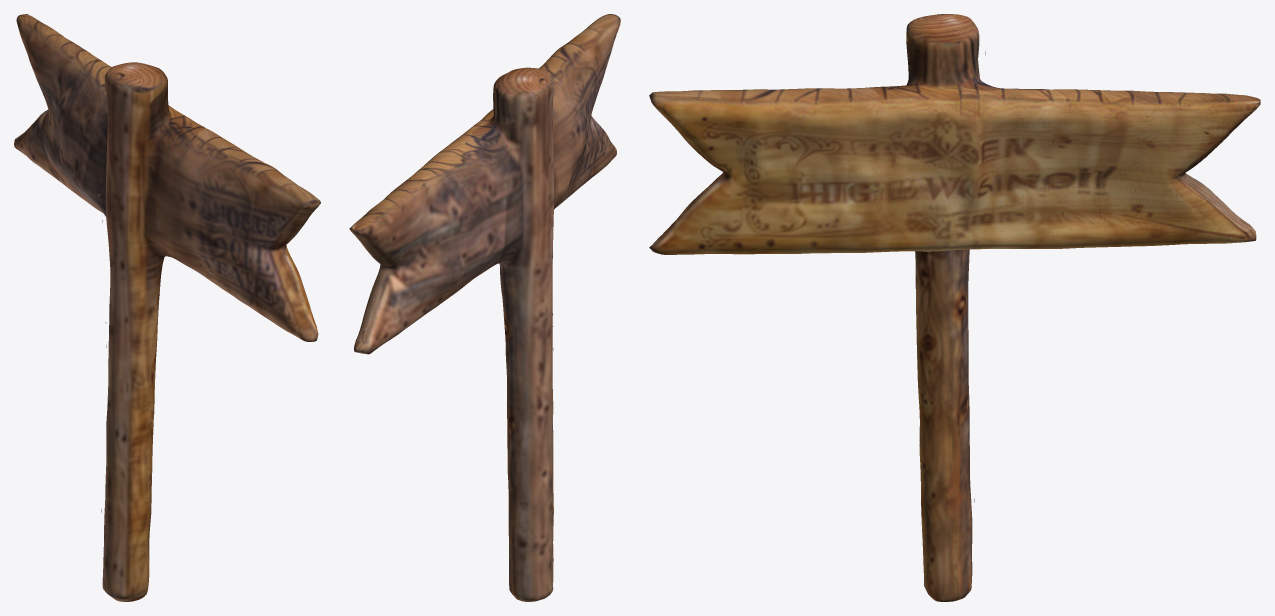
3 renders of one model, left to right at view 1: azimuth 30°, elevation 25°; view 2: azimuth 150°, elevation 25°; view 3: azimuth 270°, elevation 25°, orthographic. The views are drawn at different scales.
Visible parts, largest first — view 1: Mesh_0; view 2: Mesh_0; view 3: Mesh_0.
Part boxes in pixels (bbox=[...]): Mesh_0: bbox=[14, 14, 320, 601]; Mesh_0: bbox=[349, 14, 620, 601]; Mesh_0: bbox=[649, 14, 1260, 601].
Bounding box in the file's own units: 21.04 × 120 × 115.
Materials: 1 (1 with a texture image).
